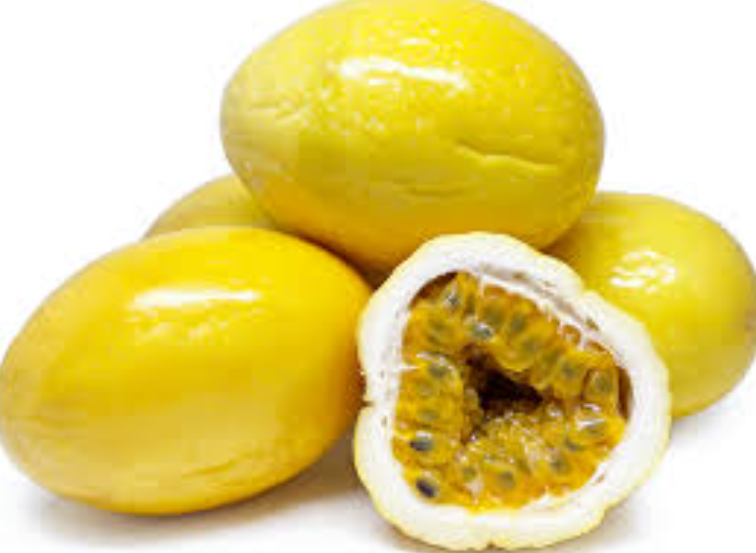maracuya: (1, 222, 377, 531), (208, 1, 613, 275)
